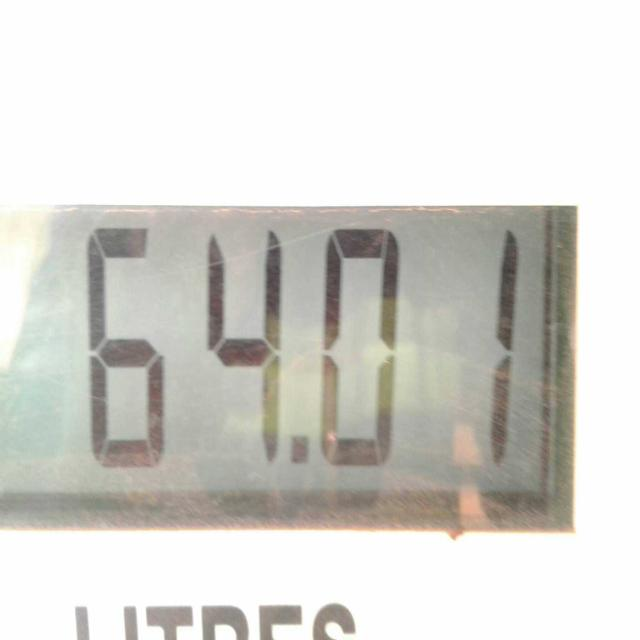.: (291, 435, 309, 467)
0: (322, 232, 396, 469)
1: (495, 232, 514, 460)
4: (210, 236, 282, 460)
6: (86, 232, 169, 467)
